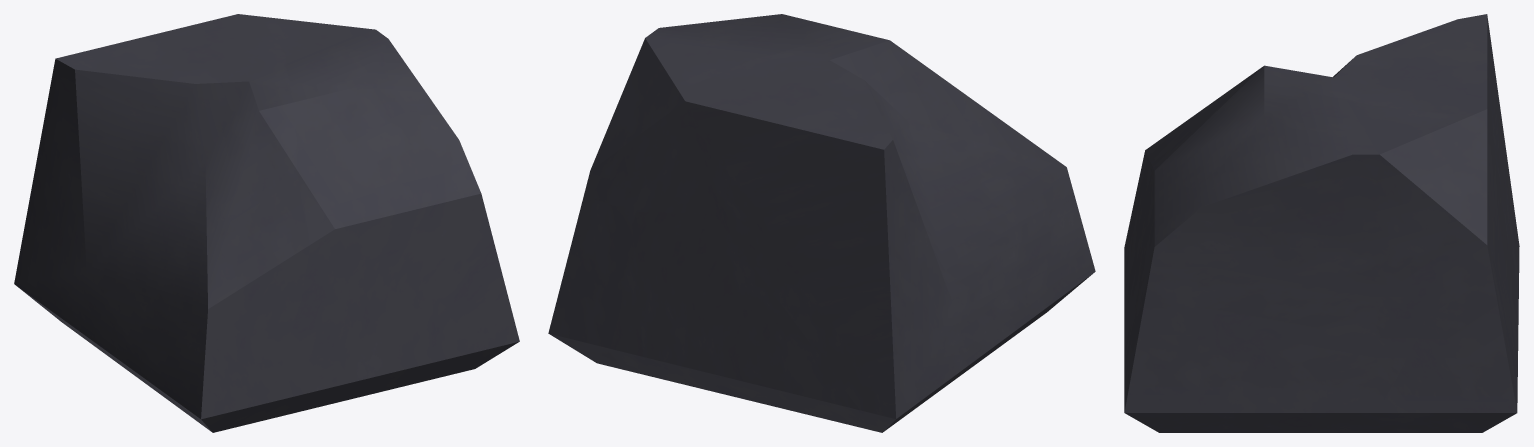
The model's file is rock 1.fbx.
The picture shows the model from 3 angles, left to right: view 1: azimuth 30°, elevation 25°; view 2: azimuth 150°, elevation 25°; view 3: azimuth 270°, elevation 25°; orthographic projection. The views are drawn at different scales.
Parts seen in each view (by area): view 1: Cube; view 2: Cube; view 3: Cube.
Boxes of the visible parts, x1=… form: Cube: x1=14, y1=14, x2=519, y2=432; Cube: x1=548, y1=14, x2=1095, y2=432; Cube: x1=1124, y1=14, x2=1519, y2=432.
Bounding box in the file's own units: 237 × 186 × 237.
